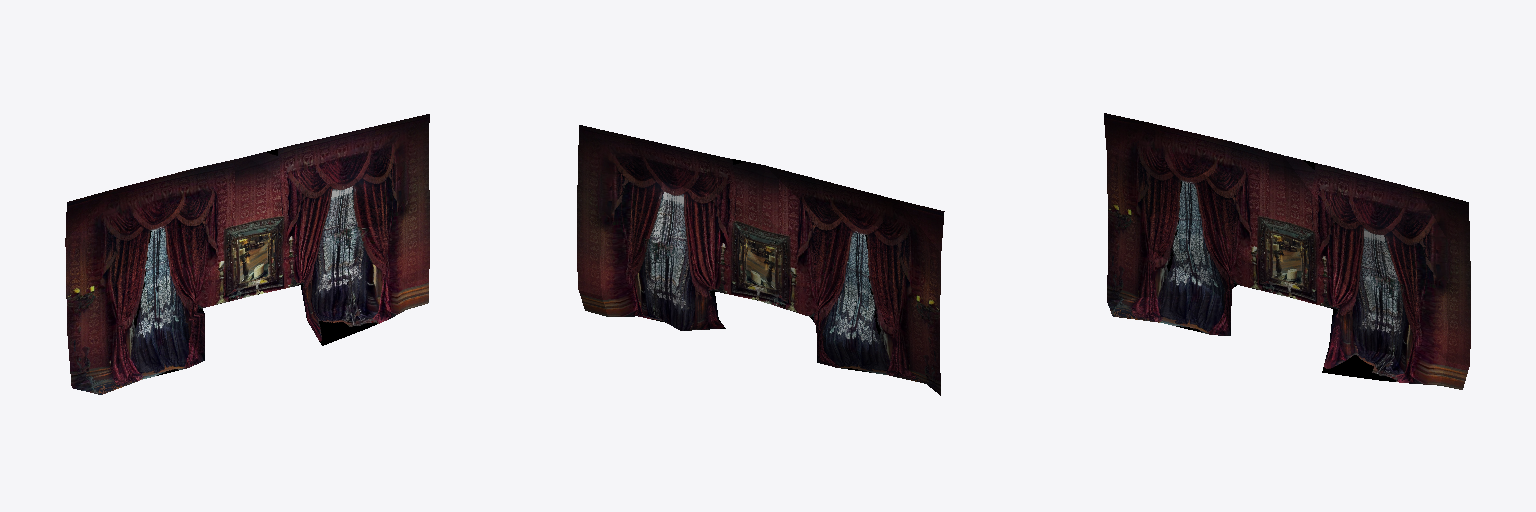
3 renders of one model, left to right at view 1: azimuth 30°, elevation 25°; view 2: azimuth 150°, elevation 25°; view 3: azimuth 330°, elevation 25°, orthographic.
Parts seen in each view (by area): view 1: Kitchen_GEO_GRP1_Window_Wall; view 2: Kitchen_GEO_GRP1_Window_Wall; view 3: Kitchen_GEO_GRP1_Window_Wall.
Part boxes in pixels (left/top/right/bottom): Kitchen_GEO_GRP1_Window_Wall: left=65, top=114, right=429, bottom=394; Kitchen_GEO_GRP1_Window_Wall: left=577, top=125, right=944, bottom=395; Kitchen_GEO_GRP1_Window_Wall: left=1104, top=113, right=1470, bottom=389.
Bounding box in the file's own units: 7.22 × 3.62 × 0.8285.
1 materials, 1 textured.